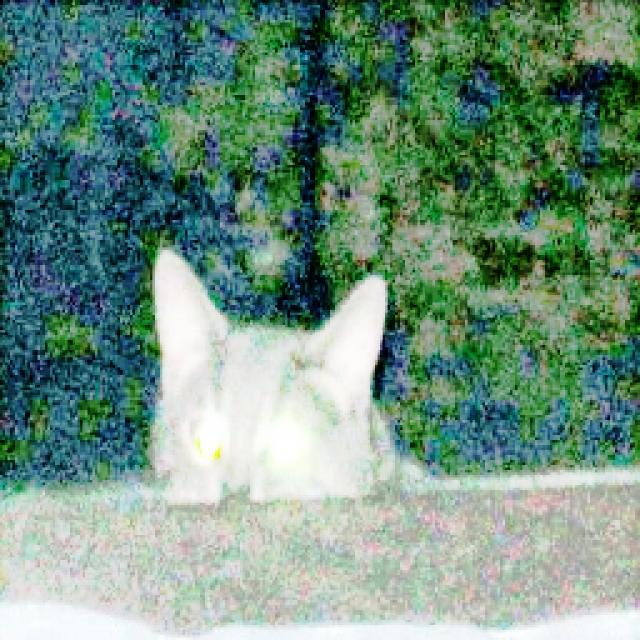cat: (133, 248, 442, 501)
